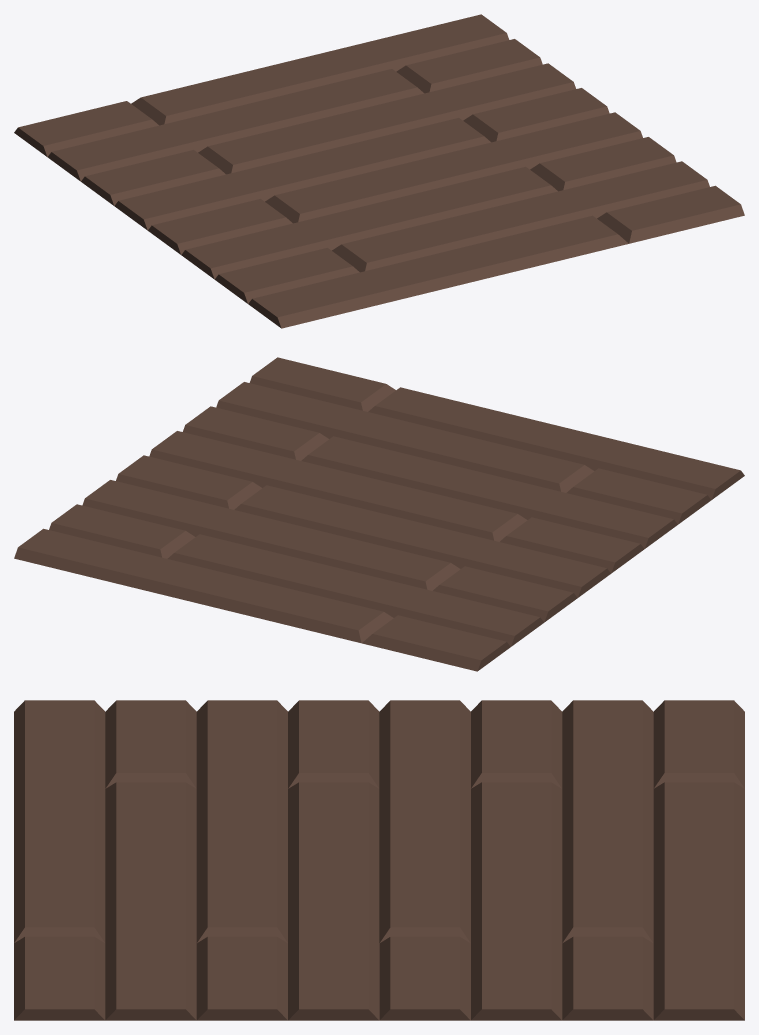
The model's file is FloorWood.fbx.
3 views of the same model, one above another, from view 1: azimuth 30°, elevation 25°; view 2: azimuth 150°, elevation 25°; view 3: azimuth 270°, elevation 25° (orthographic). The views are drawn at different scales.
Parts seen in each view (by area): view 1: Floor1; view 2: Floor1; view 3: Floor1.
Part boxes in pixels (box(x1,y1,x2,y2)): Floor1: box(14, 14, 744, 328); Floor1: box(14, 357, 744, 671); Floor1: box(14, 700, 744, 1020).
Bounding box in the file's own units: 200 × 3.44 × 200.
